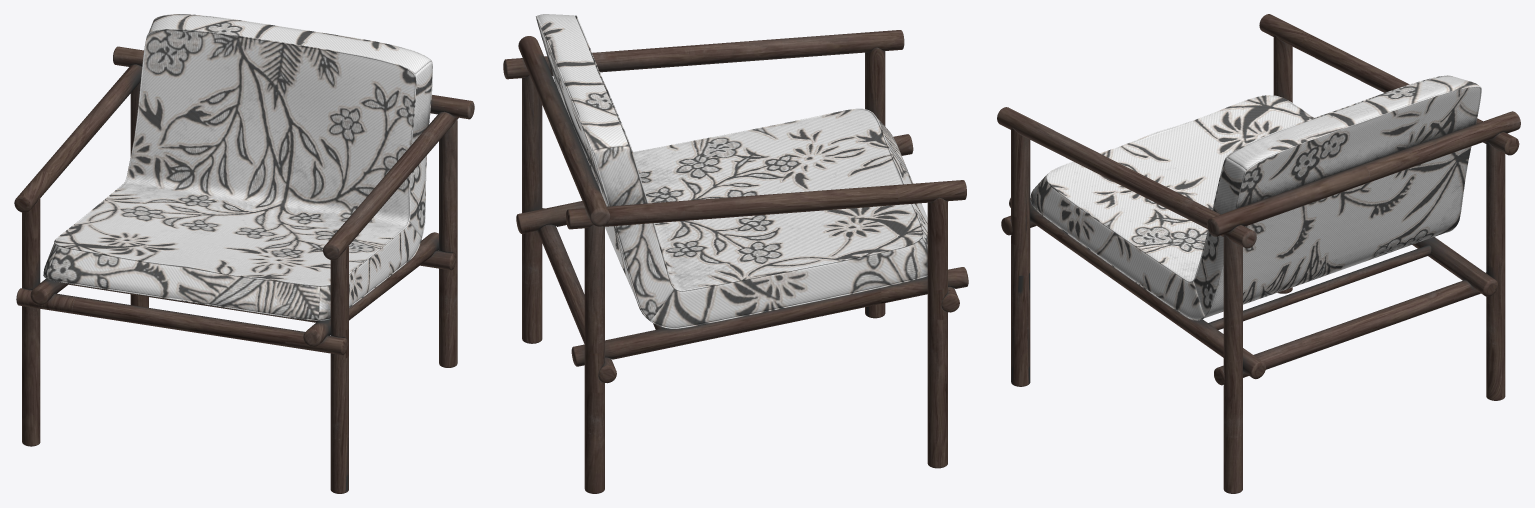
File: MOD_ART_ThreeRooms.fbx_Chair_1.fbx
3 views of the same model, side by side, from view 1: azimuth 30°, elevation 25°; view 2: azimuth 150°, elevation 25°; view 3: azimuth 270°, elevation 25° (orthographic). The views are drawn at different scales.
Visible parts, largest first — view 1: Botanical Pattern Small chair; view 2: Botanical Pattern Small chair; view 3: Botanical Pattern Small chair.
Boxes of the visible parts, x1,y1,x2,y2 form: Botanical Pattern Small chair: (14,14,474,493); Botanical Pattern Small chair: (503,14,968,493); Botanical Pattern Small chair: (997,14,1520,493).
Size of the model in its own units: 97.26 by 66.82 by 97.09.
Materials: 1 (1 with a texture image).
